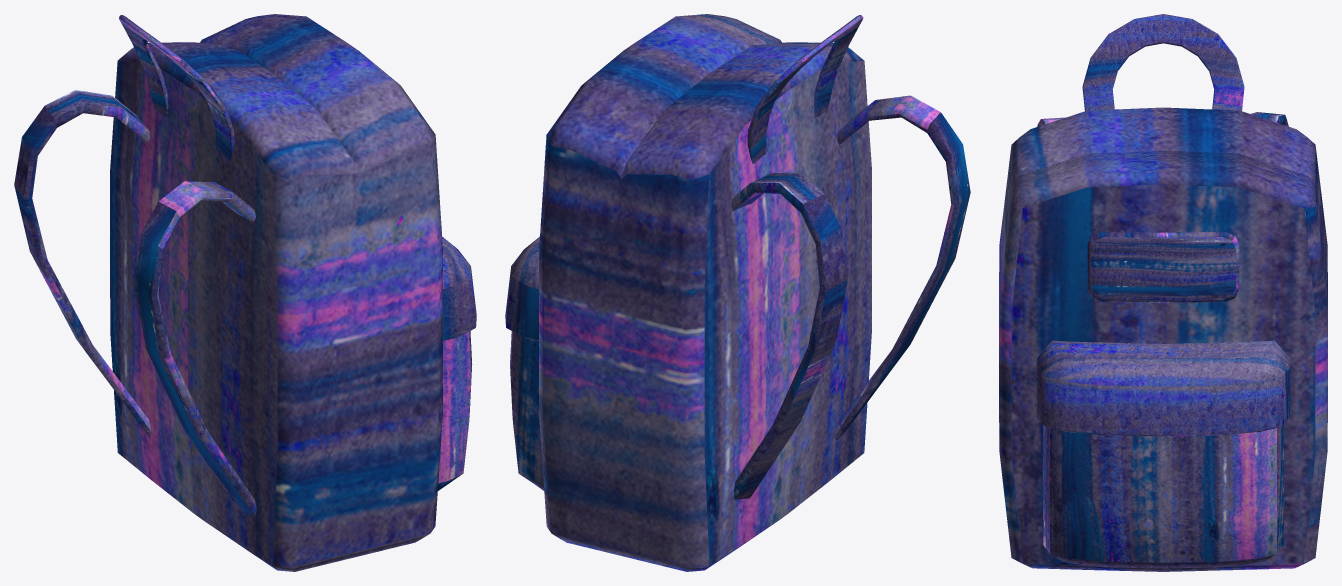
File: Backpack_02.fbx
3 renders of one model, left to right at view 1: azimuth 30°, elevation 25°; view 2: azimuth 150°, elevation 25°; view 3: azimuth 270°, elevation 25°, orthographic. The views are drawn at different scales.
Parts seen in each view (by area): view 1: Backpack_01; view 2: Backpack_01; view 3: Backpack_01.
Part boxes in pixels (x1=…): Backpack_01: x1=14, y1=14, x2=476, y2=571; Backpack_01: x1=505, y1=14, x2=970, y2=571; Backpack_01: x1=999, y1=14, x2=1327, y2=571.
Bounding box in the file's own units: 6.74 × 9.26 × 5.95.
